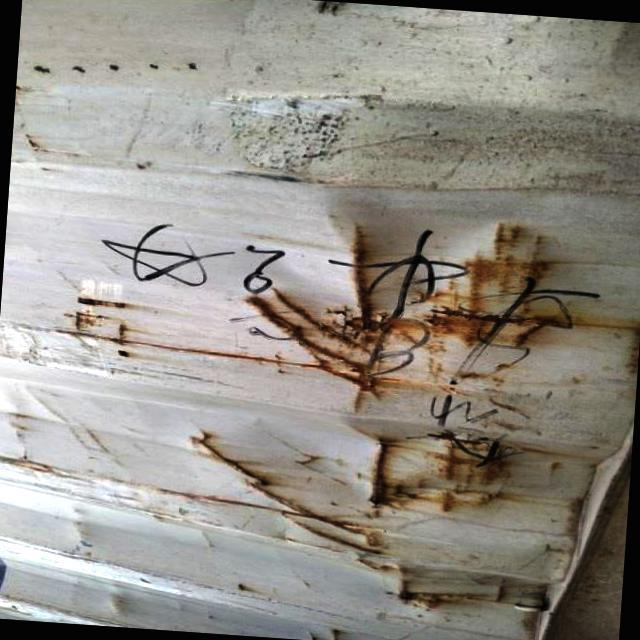rust: (234, 234, 570, 406), (430, 428, 513, 513), (351, 427, 410, 526), (395, 573, 480, 619)
